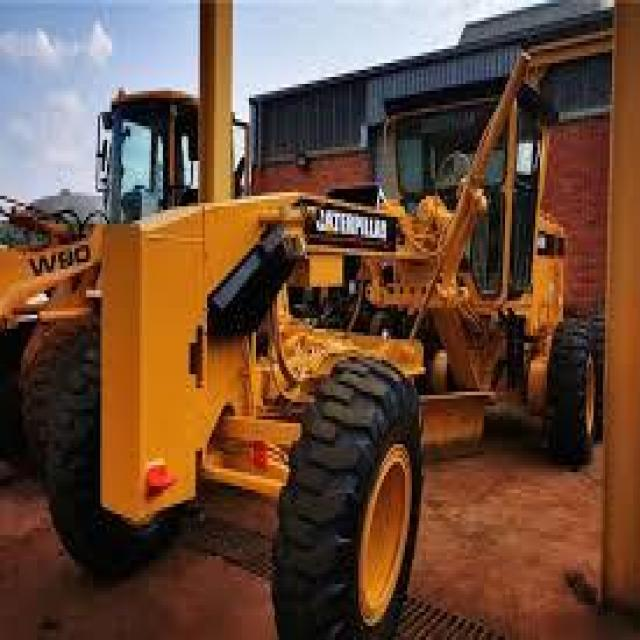Grader: (18, 49, 638, 615)
